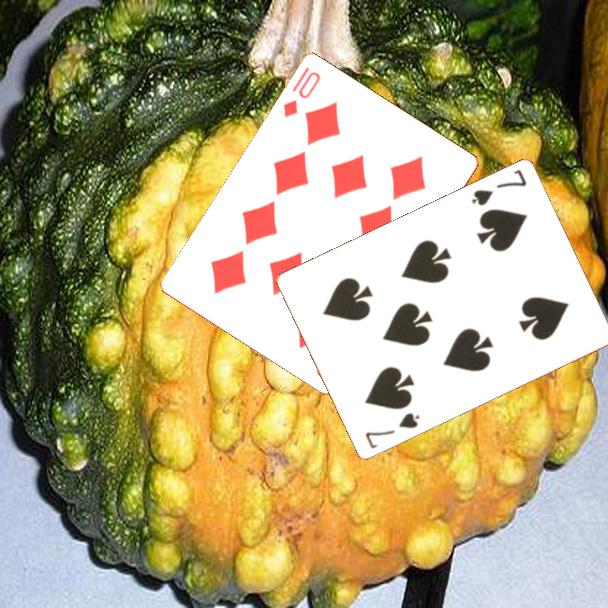d10: (280, 63, 324, 121)
s07: (361, 409, 423, 452), (467, 166, 529, 209)
